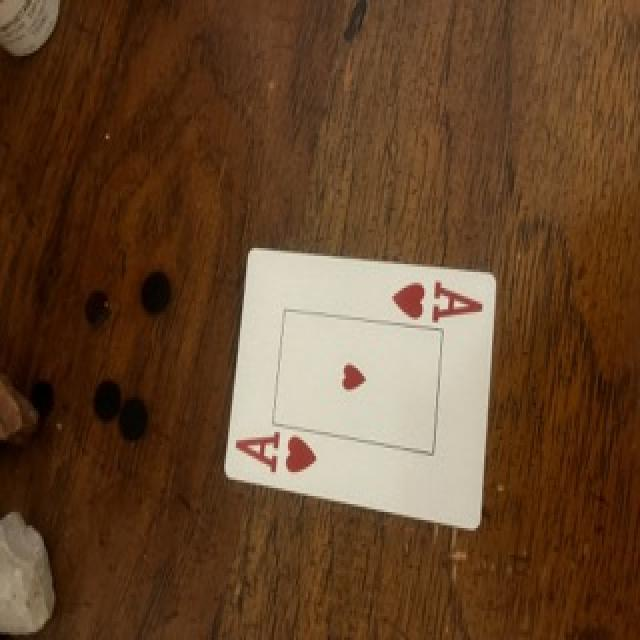Ace of hearts: (225, 248, 496, 528)
